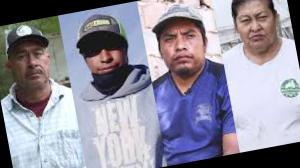mask_weared_incorrect: (84, 39, 130, 85)
without_mask: (159, 24, 210, 80), (238, 7, 279, 58), (13, 45, 53, 91)
